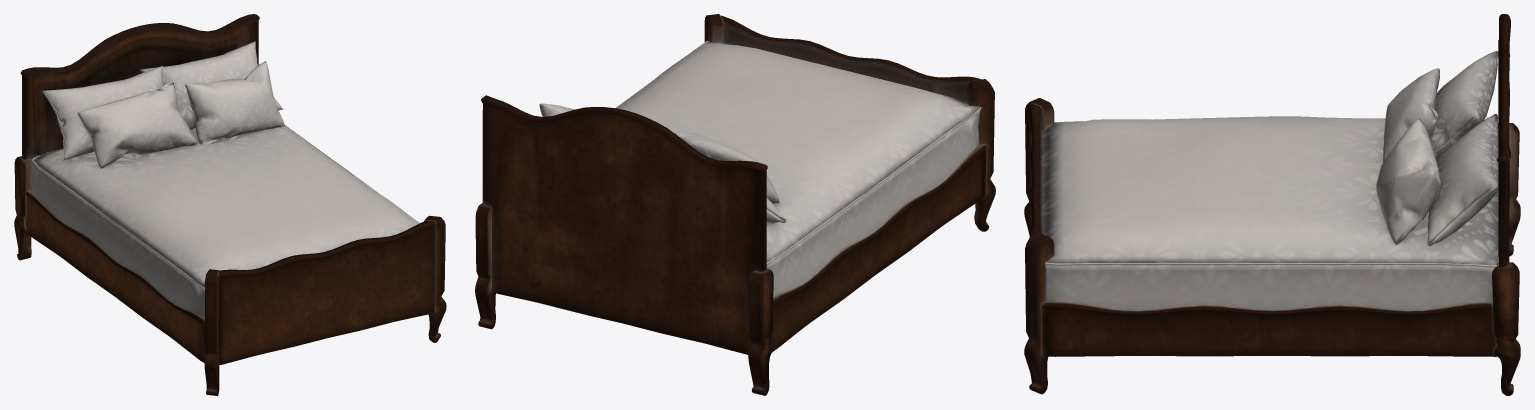
File: bed.glb
3 renders of one model, left to right at view 1: azimuth 30°, elevation 25°; view 2: azimuth 150°, elevation 25°; view 3: azimuth 270°, elevation 25°, orthographic. The views are drawn at different scales.
Visible parts, largest first — view 1: victorian_bed_wood, victorian_bed_mattres, pollows; view 2: victorian_bed_wood, victorian_bed_mattres, pollows; view 3: victorian_bed_mattres, victorian_bed_wood, pollows.
Boxes of the visible parts, x1,y1,x2,y2 form: victorian_bed_wood: (14, 14, 446, 395); victorian_bed_mattres: (30, 125, 419, 317); pollows: (42, 41, 284, 168); victorian_bed_wood: (475, 14, 995, 395); victorian_bed_mattres: (615, 40, 981, 297); pollows: (539, 103, 785, 223); victorian_bed_mattres: (1042, 116, 1498, 311); victorian_bed_wood: (1024, 14, 1520, 395); pollows: (1376, 51, 1498, 246).
Size of the model in its own units: 2.13 by 1.73 by 3.01.
3 materials, 3 textured.
